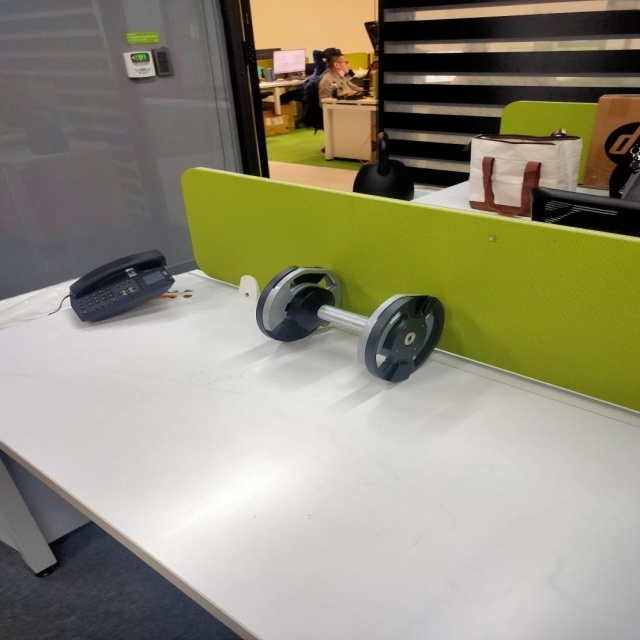02-4kg: (256, 264, 446, 383)
